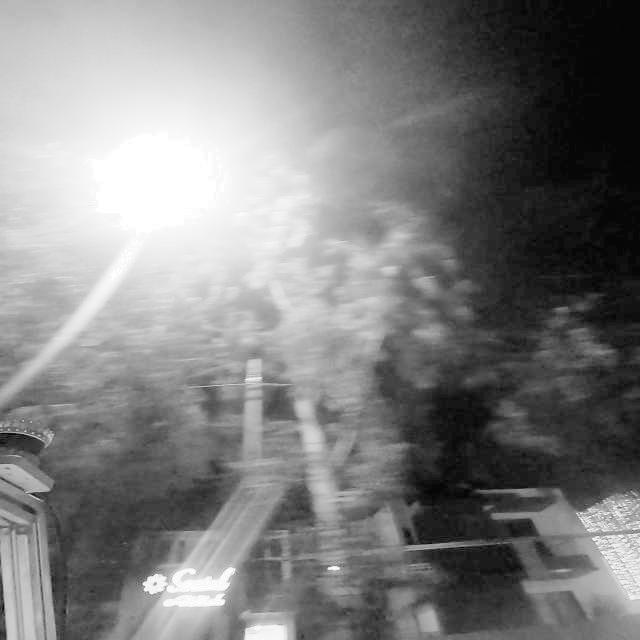Light: (85, 115, 237, 240)
